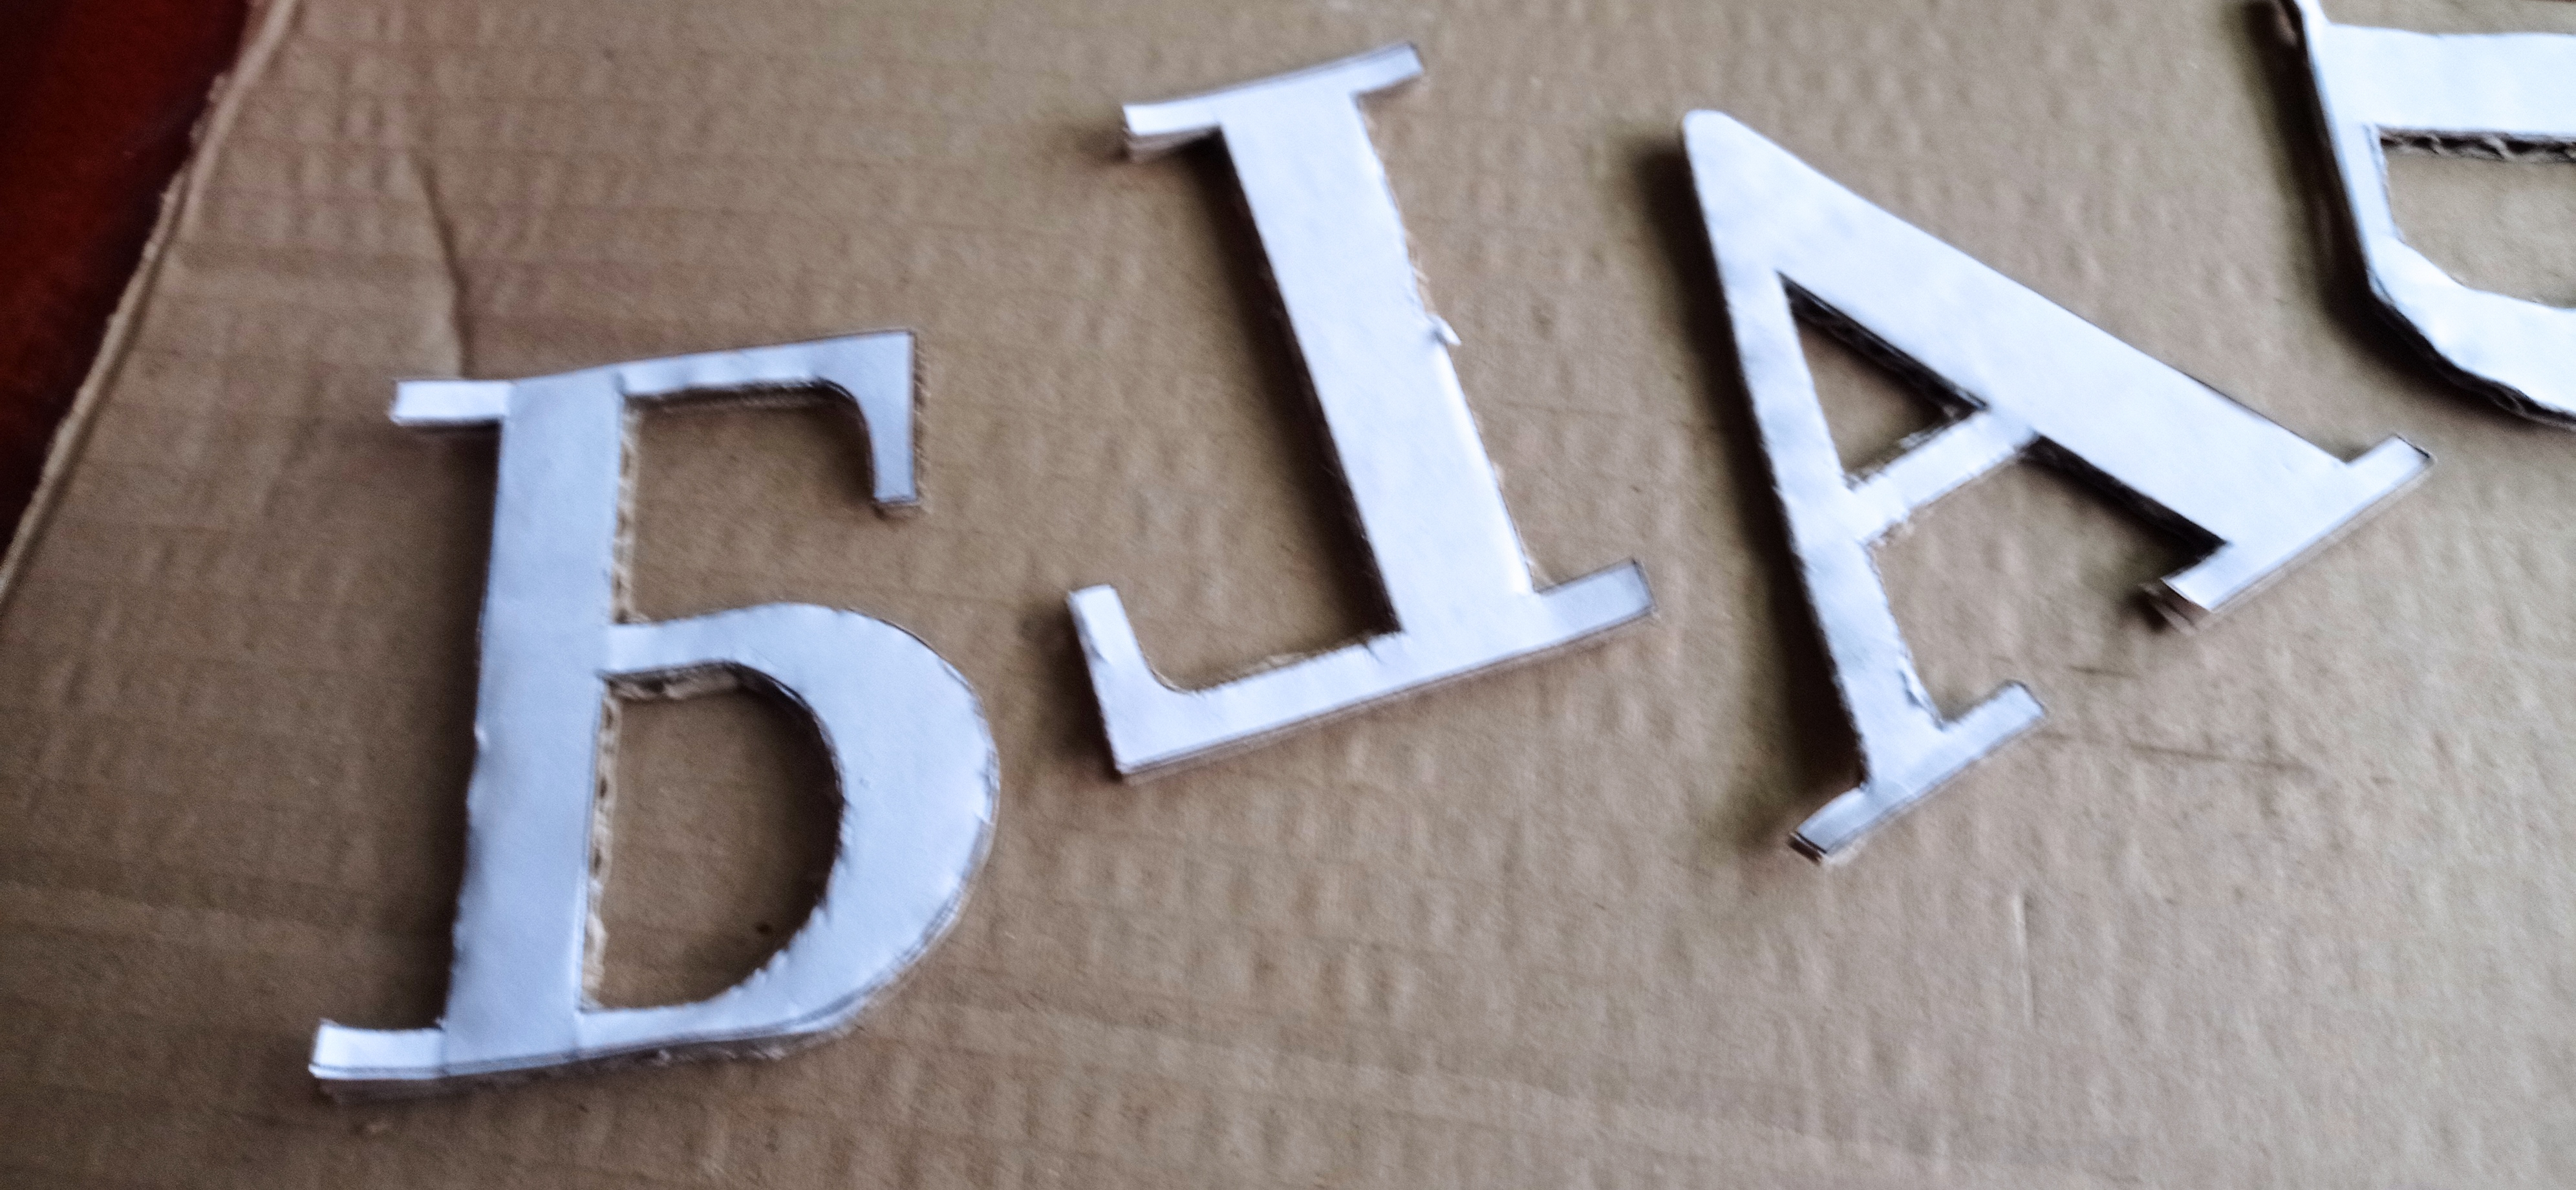a: (1681, 107, 2436, 869)
b: (309, 322, 1007, 1100)
g: (1060, 46, 1659, 786)
